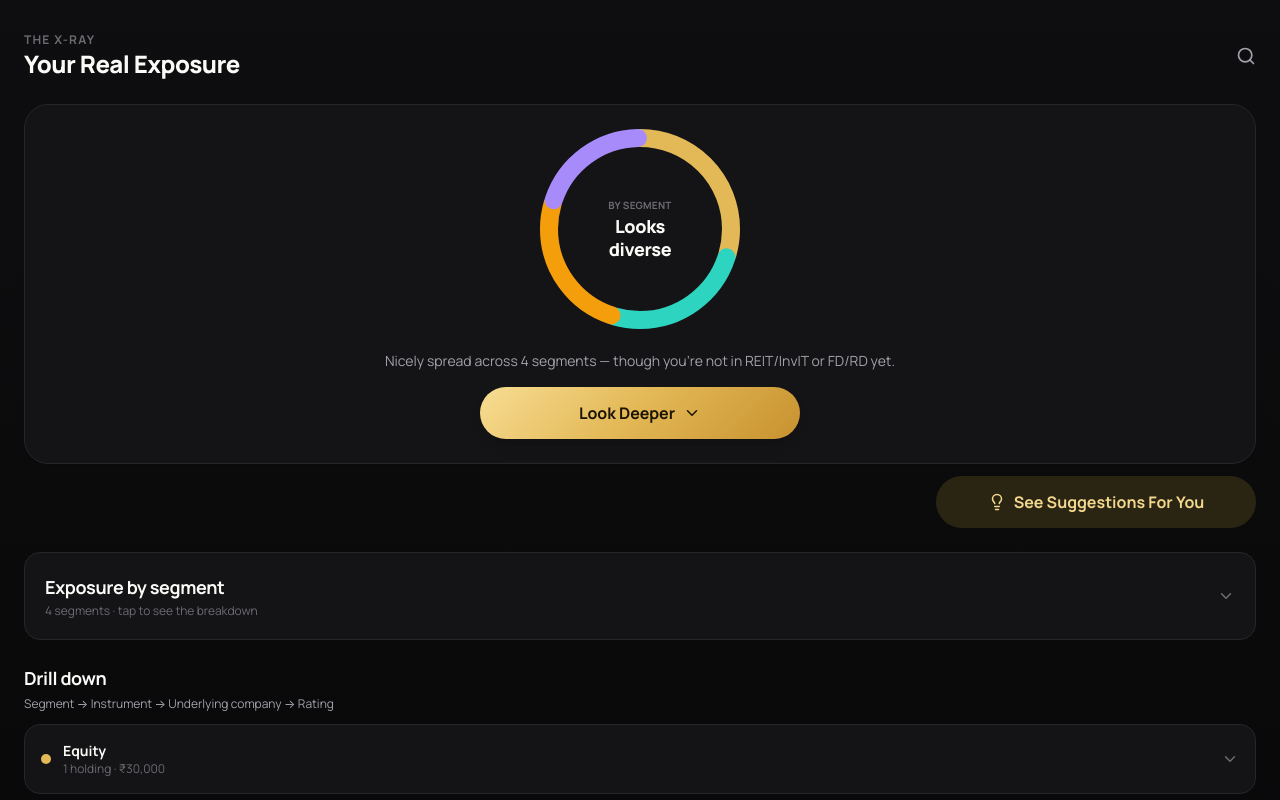
it: XRay — deep view tiers its framing/color to the real top-company exposure › uses a softer amber note, not the alarm framing, for moderate real concentration
The image size is (1280, 800).
Step 1. Click the button with test id "xray-look-deeper-btn" → [640, 413], box left=480, top=387, right=800, bottom=439
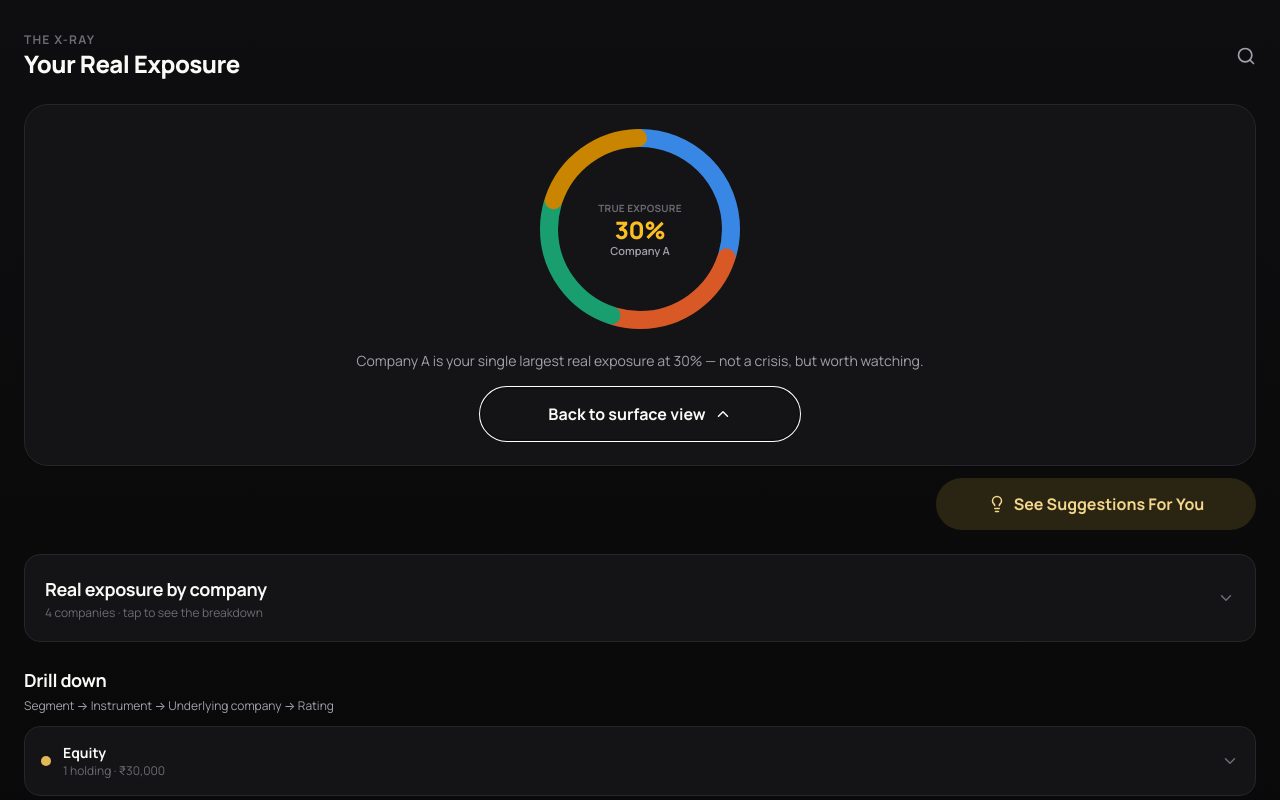
Result: the text with test id "xray-deep-top-pct" reads "30%" at left=615, top=218, right=665, bottom=242
Result: the text with test id "xray-insight-message" shows "Company A is your single largest real exposure at 30%" at left=357, top=351, right=924, bottom=370
